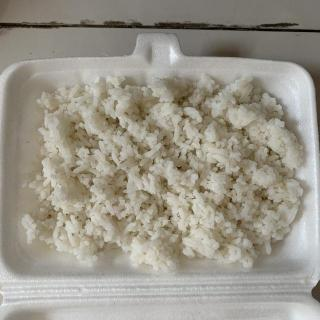Nasi: (21, 80, 301, 268)
